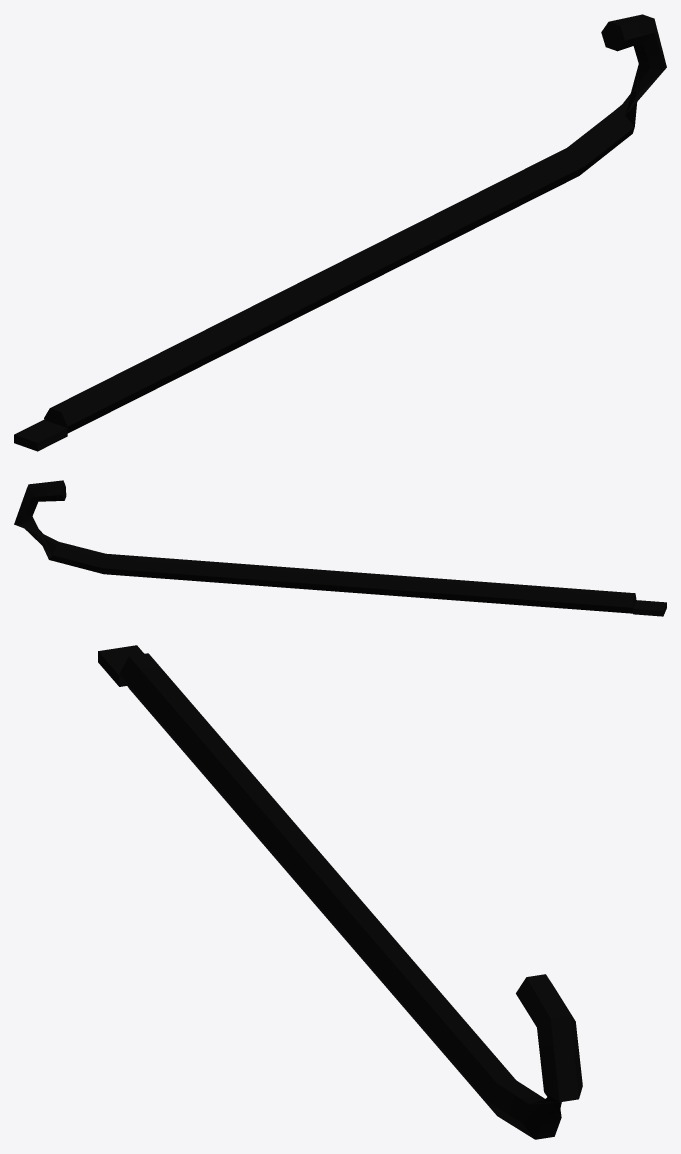
Rendered from SM_crowbar.fbx.
3 views of the same model, one above another, from view 1: azimuth 30°, elevation 25°; view 2: azimuth 150°, elevation 25°; view 3: azimuth 270°, elevation 25° (orthographic). The views are drawn at different scales.
Parts seen in each view (by area): view 1: crowbar; view 2: crowbar; view 3: crowbar.
Boxes of the visible parts, box(x1,y1,x2,y2) form: crowbar: box(14, 14, 666, 451); crowbar: box(14, 480, 666, 616); crowbar: box(98, 645, 582, 1139).
Bounding box in the file's own units: 0.6049 × 0.0922 × 0.2343.
